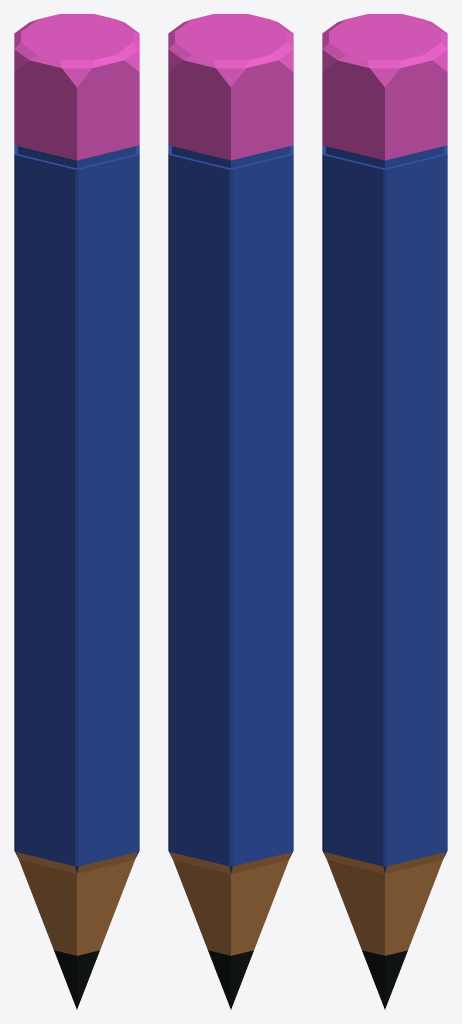
File: pencil.FBX
The picture shows the model from 3 angles, left to right: view 1: azimuth 90°, elevation 25°; view 2: azimuth 150°, elevation 25°; view 3: azimuth 270°, elevation 25°; orthographic projection.
Parts seen in each view (by area): view 1: Cylinder001; view 2: Cylinder001; view 3: Cylinder001.
Boxes of the visible parts, <box> form: Cylinder001: <box>14,14,139,1009</box>; Cylinder001: <box>168,14,293,1009</box>; Cylinder001: <box>322,14,447,1009</box>.
Bounding box in the file's own units: 2 × 14.83 × 1.73.
